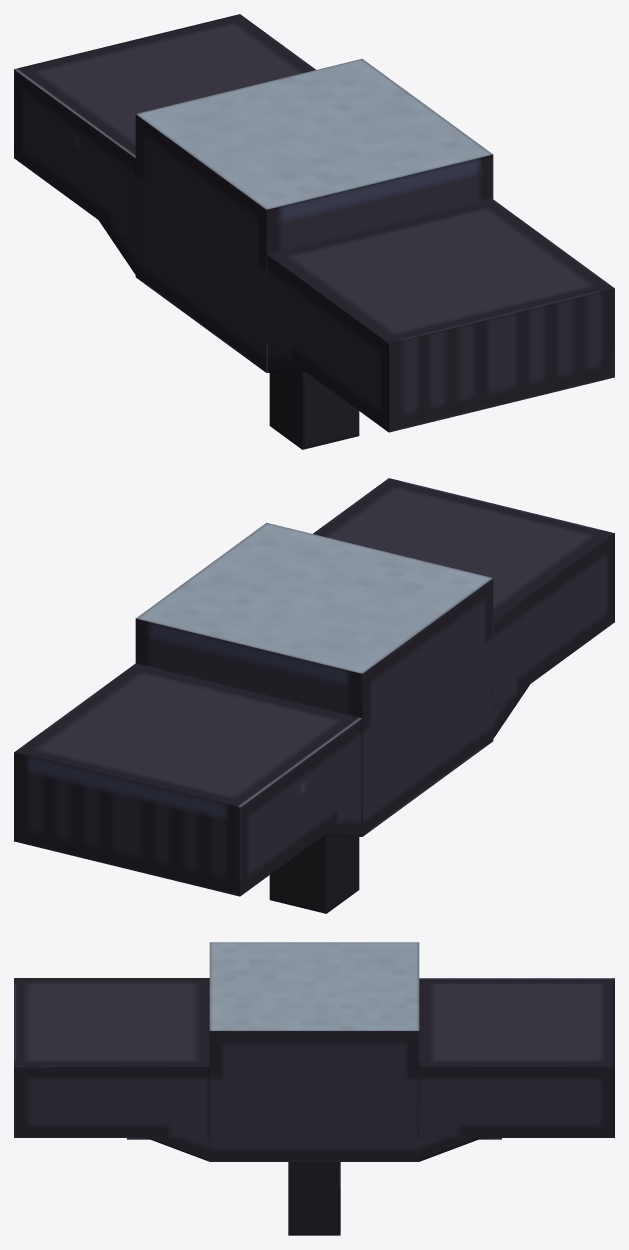
The model's file is cw2_top.obj.
The picture shows the model from 3 angles, top to bottom: view 1: azimuth 30°, elevation 25°; view 2: azimuth 150°, elevation 25°; view 3: azimuth 270°, elevation 25°; orthographic projection. The views are drawn at different scales.
Parts seen in each view (by area): view 1: top; view 2: top; view 3: top.
Part boxes in pixels (bbox=[...]): top: bbox=[14, 14, 614, 449]; top: bbox=[14, 478, 614, 913]; top: bbox=[14, 942, 614, 1235].
Size of the model in its own units: 1 by 1.25 by 2.86.
